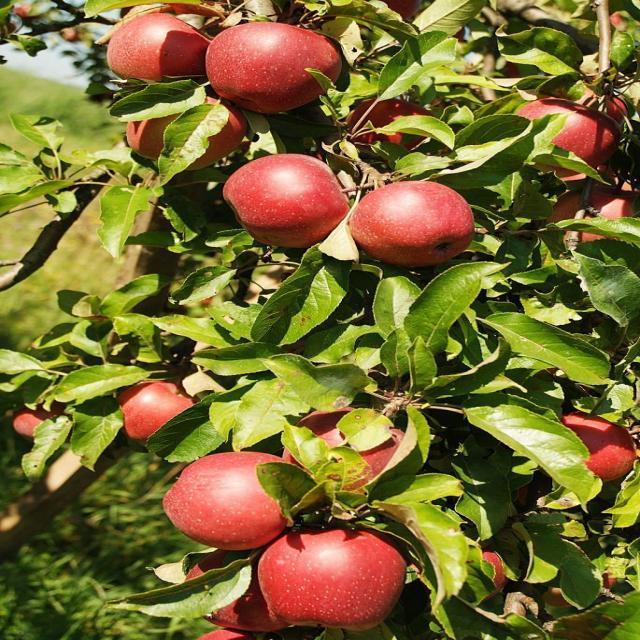Red Apple: (173, 455, 311, 546), (251, 531, 401, 606), (366, 181, 484, 264), (230, 150, 340, 235), (206, 20, 332, 92), (306, 415, 409, 485), (111, 10, 211, 81), (195, 558, 284, 626), (145, 98, 246, 156), (524, 98, 610, 156), (560, 421, 640, 476), (363, 98, 431, 142), (123, 384, 191, 428), (571, 194, 627, 234), (472, 553, 511, 581), (20, 411, 53, 436)
